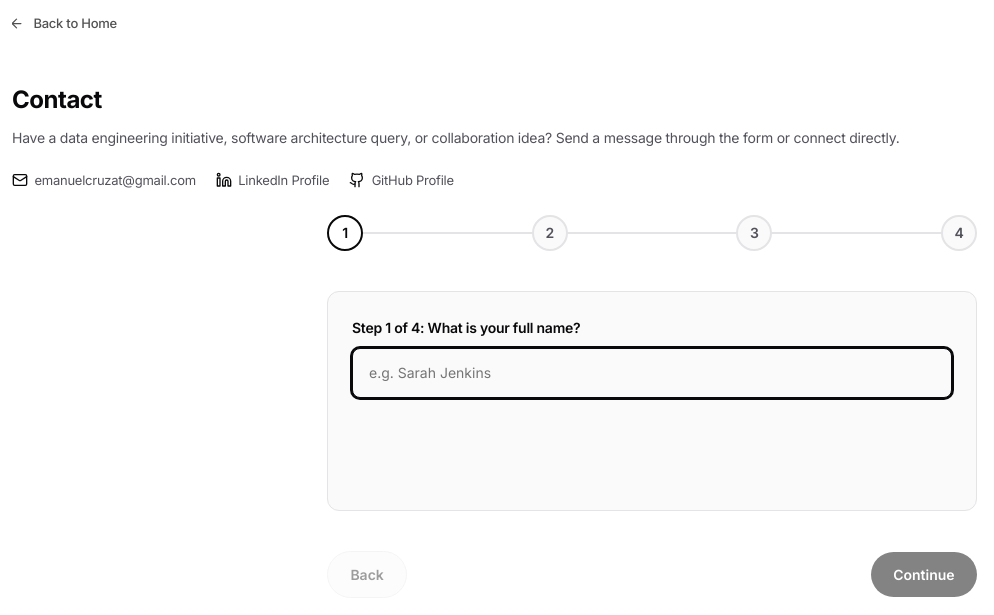
Test: Contact Page & Stepper Delivery (Phase 7 & 8) › preserves entered values when navigating backwards
In the field labelled "Step 1 of 4: What is your full name?": (652, 373) [352,348,952,398], type "Emanuel"
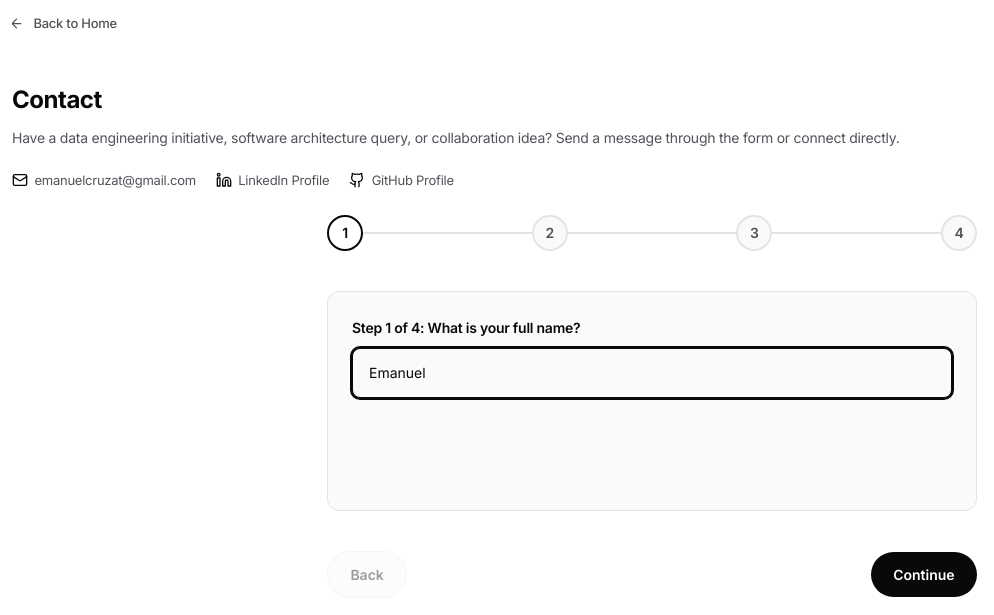
Click the button "Continue": (924, 575) [871,552,977,597]
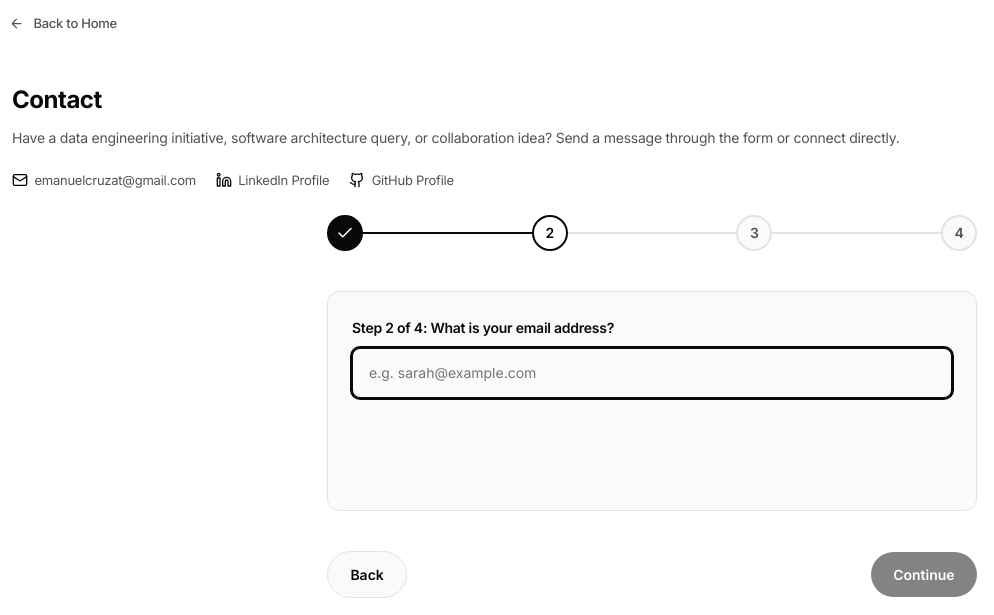
Check: the field labelled "Step 2 of 4: What is your email address?" is shown, box [352,348,952,398]
Click the button "Back": (367, 575) [327,551,407,598]
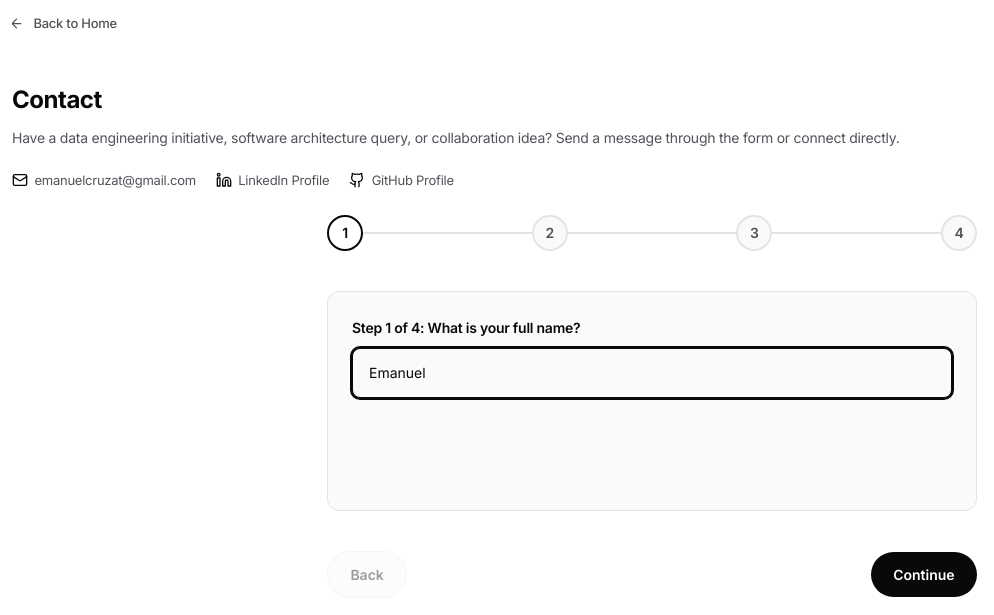
Check: the field labelled "Step 1 of 4: What is your full name?" holds "Emanuel", box [352,348,952,398]
